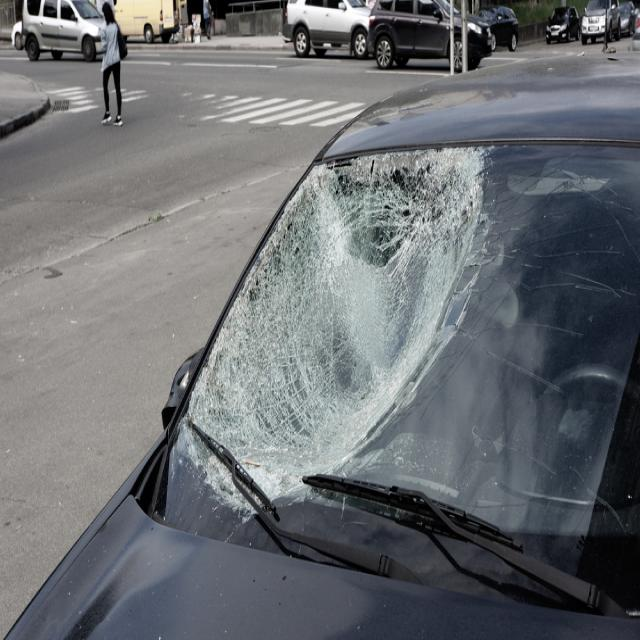Windshield: (313, 147, 492, 512), (190, 229, 322, 512)
